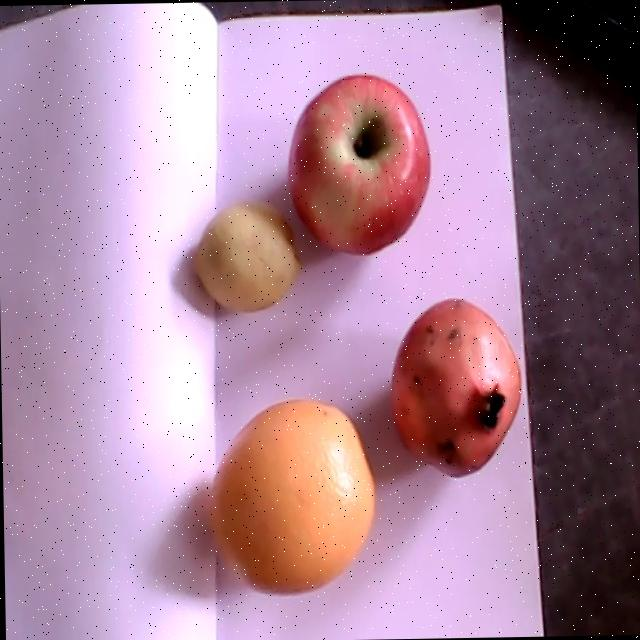apple: (287, 74, 430, 253)
lemon: (190, 201, 301, 311)
orange: (208, 399, 376, 593)
pomegranate: (391, 298, 522, 476)
